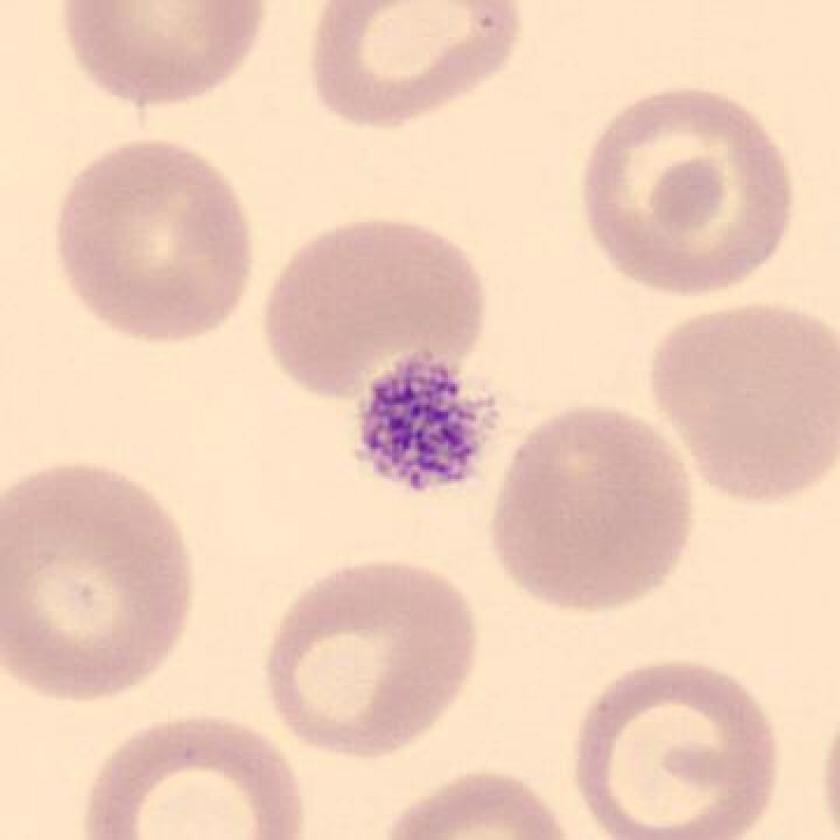platelets: (354, 346, 501, 498)
